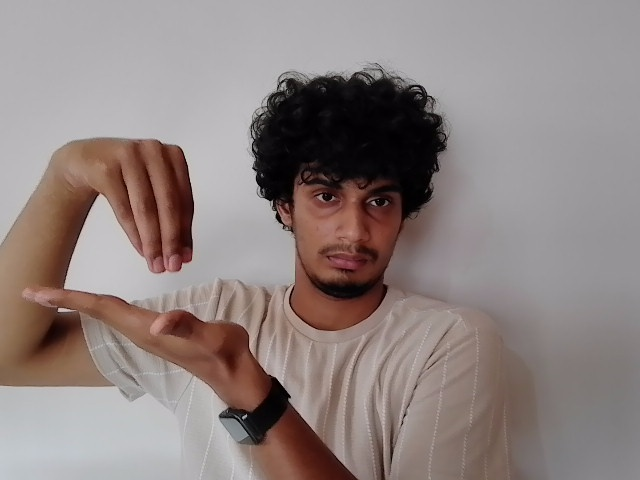learn: (28, 134, 255, 375)
